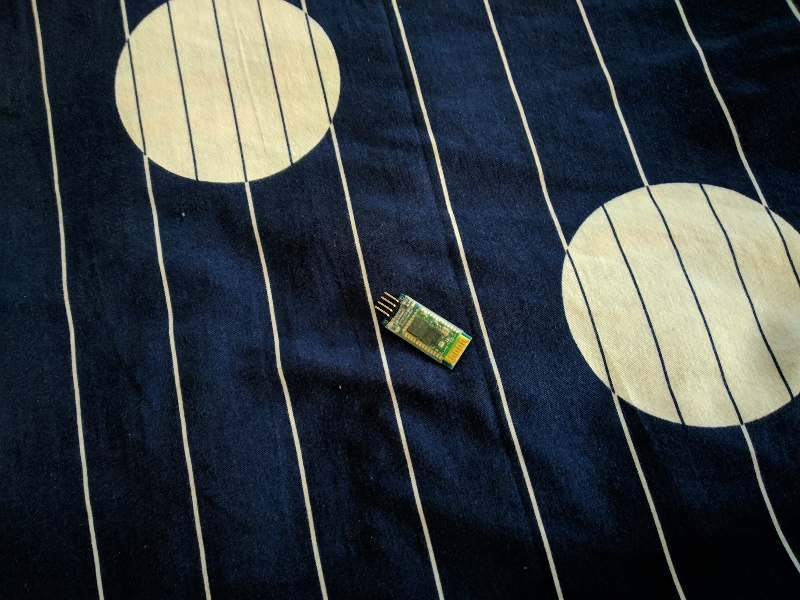HC-05: (378, 291, 474, 373)
